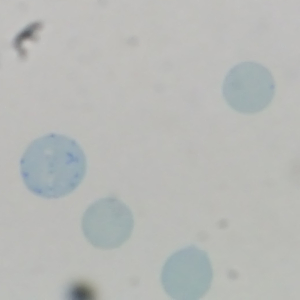aggregate reticulocyte: (17, 132, 90, 200)
erythrocyte: (79, 195, 136, 252), (158, 244, 215, 300)
punctate reticulocyte: (219, 59, 279, 116)
